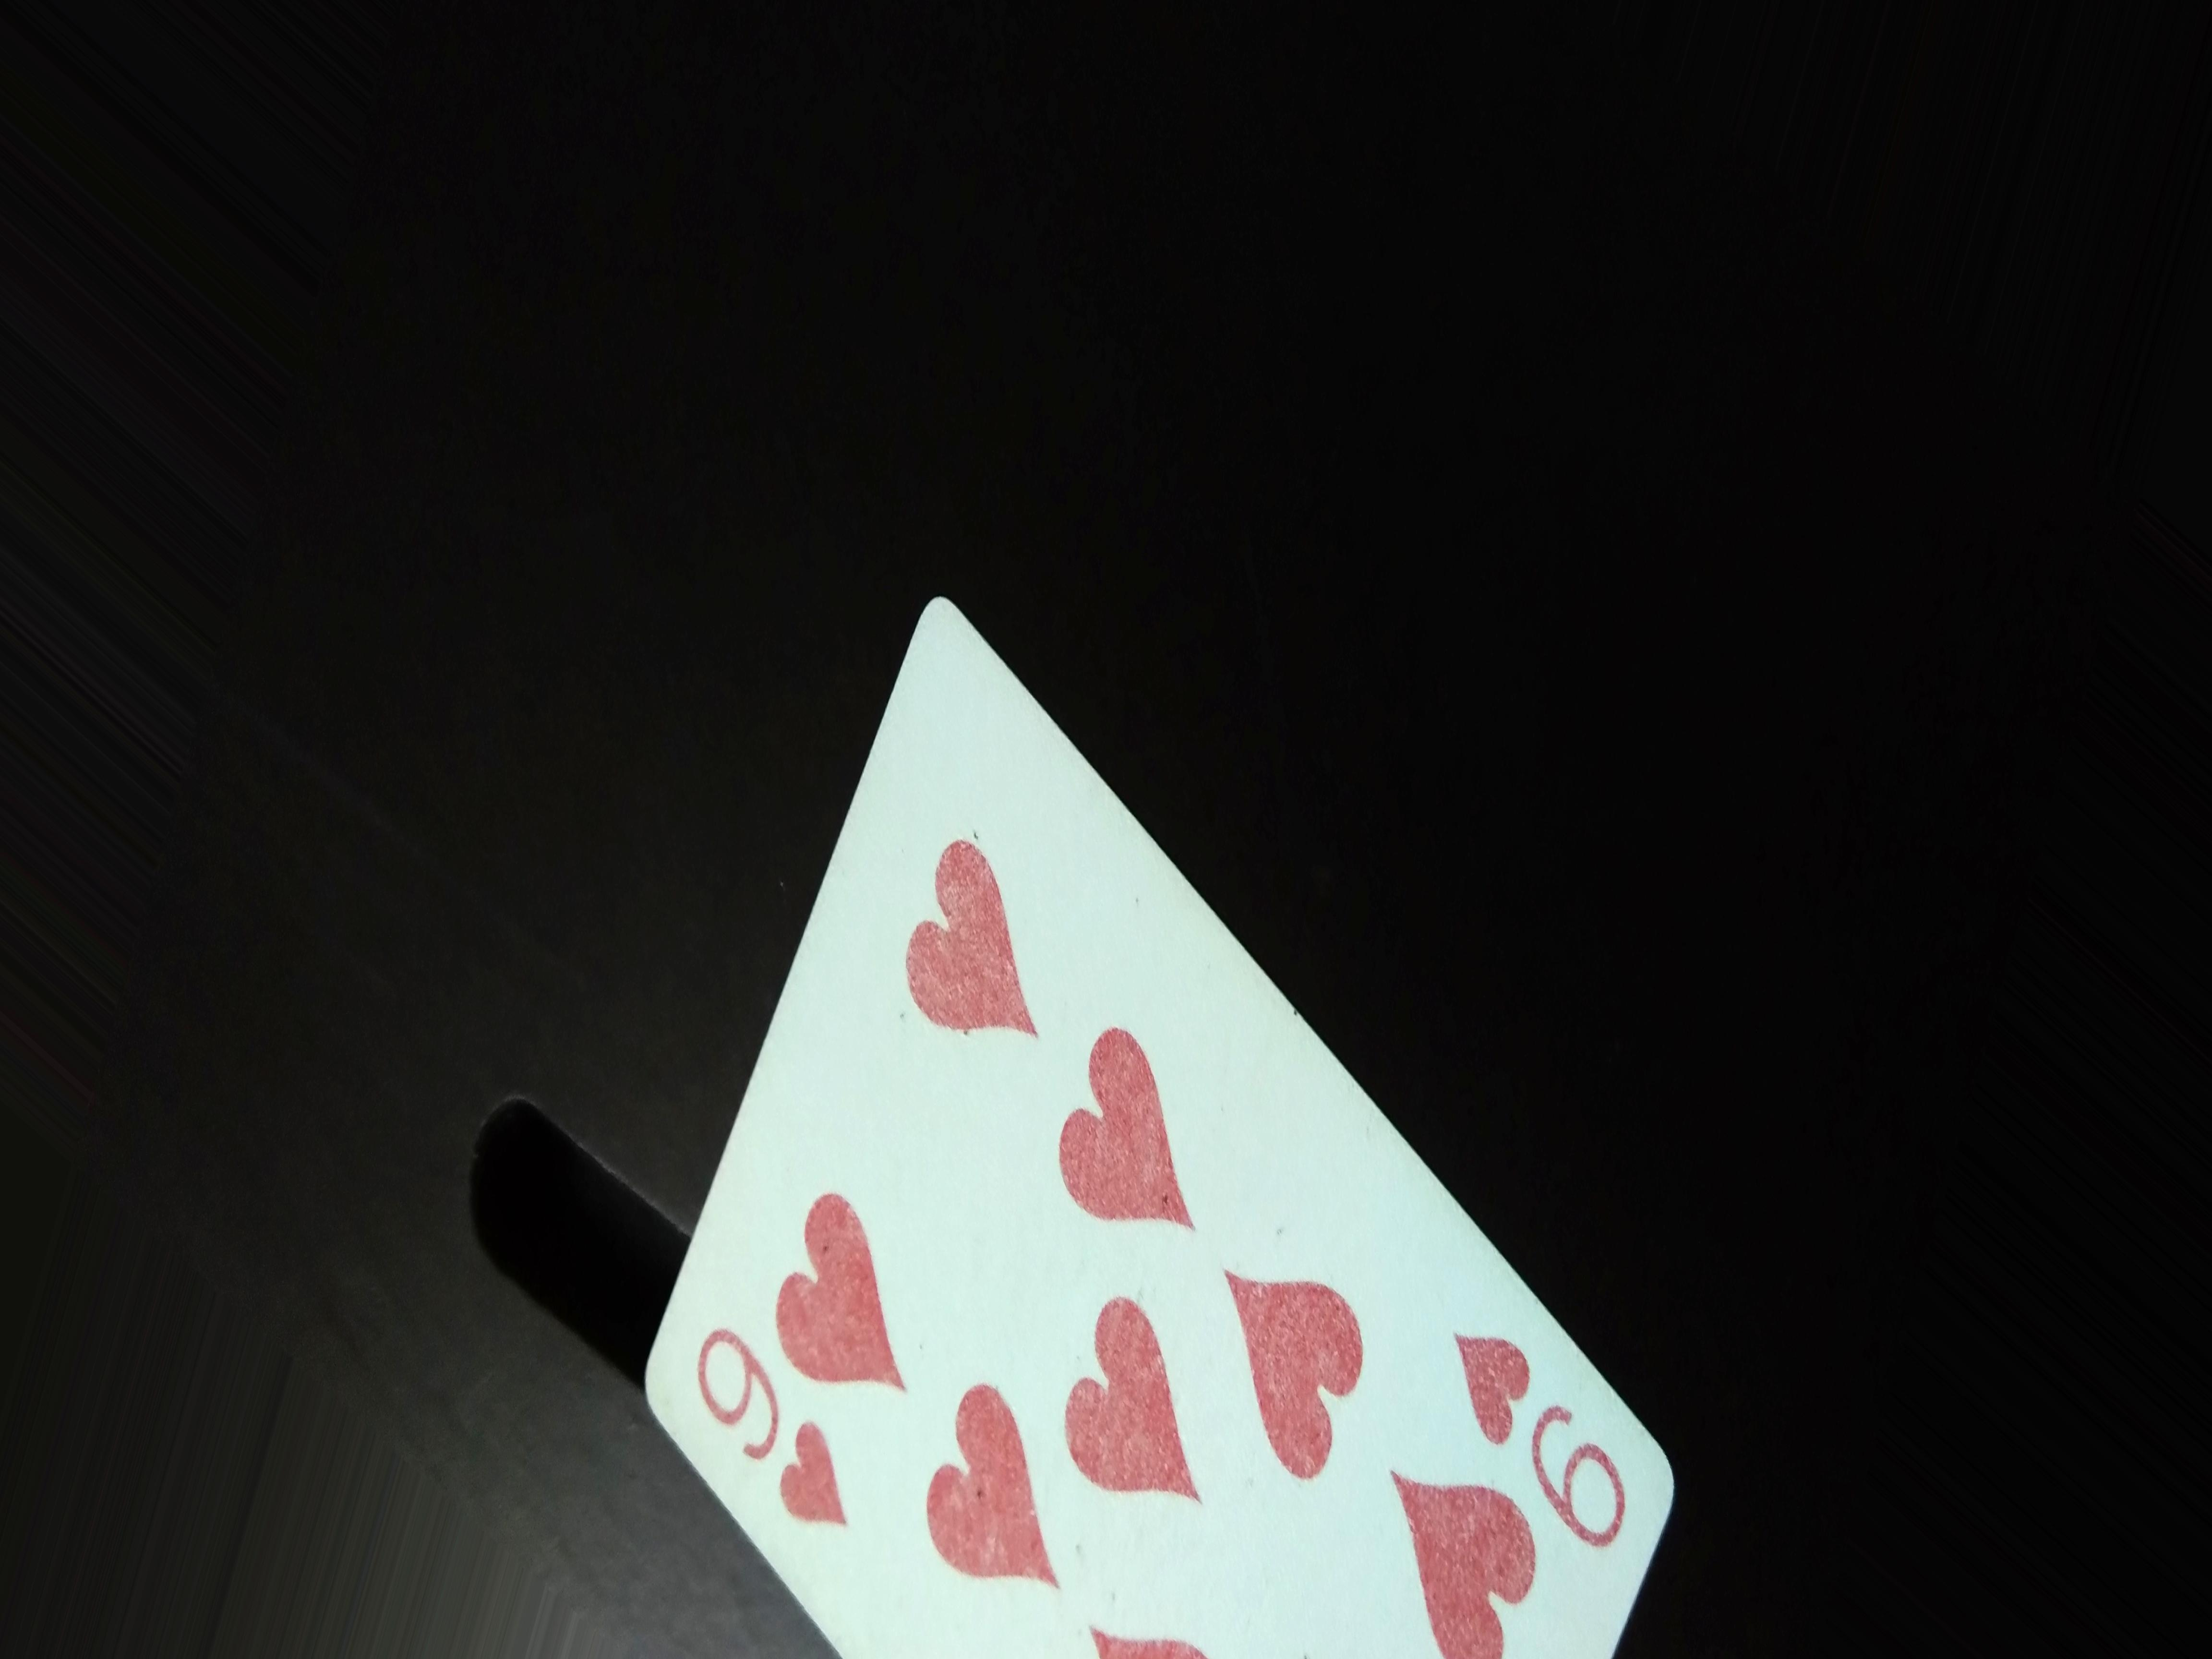9H: (672, 1314, 843, 1539)
